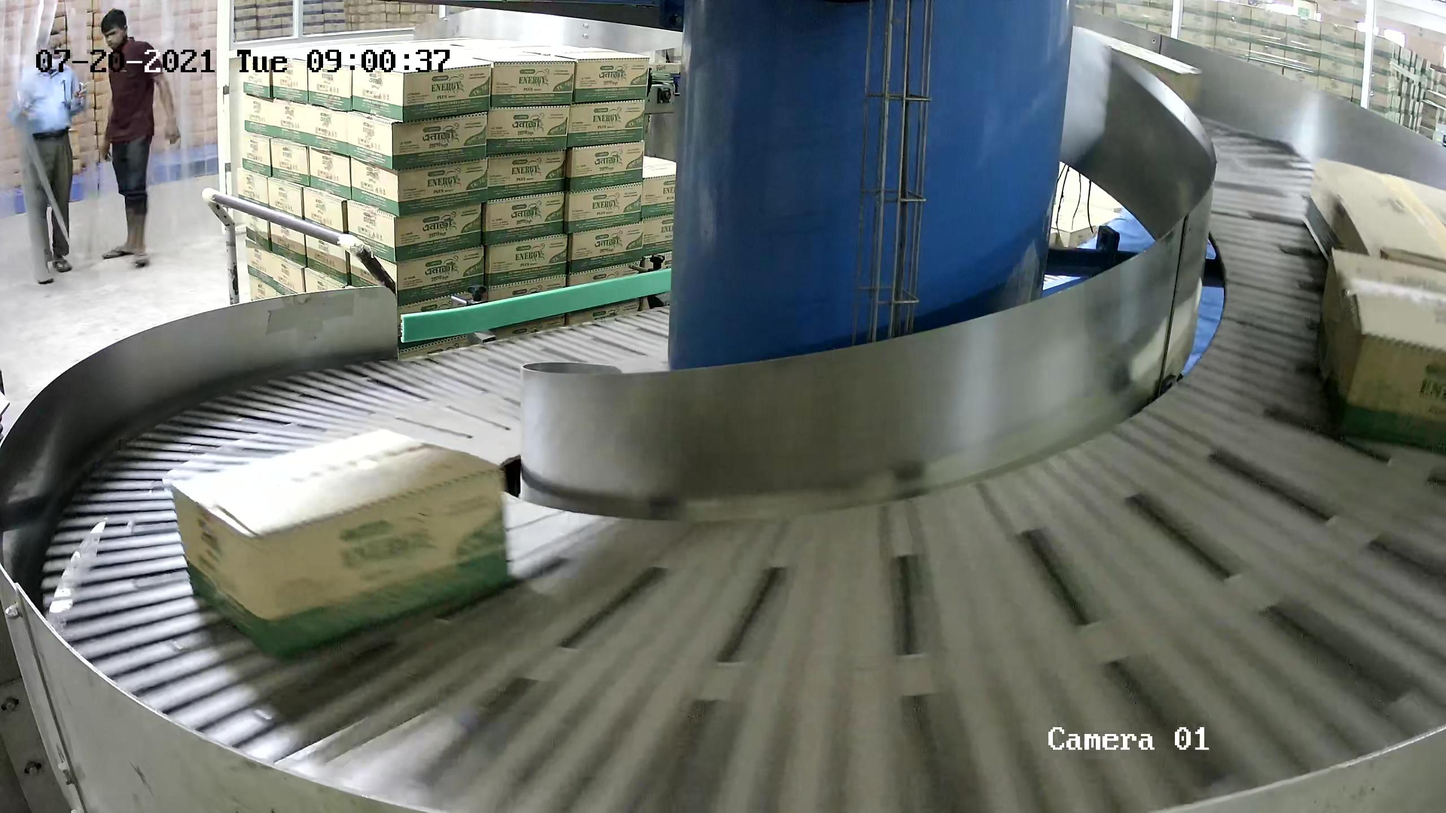Box: (174, 426, 513, 669), (1310, 249, 1446, 461), (1302, 155, 1446, 287)
